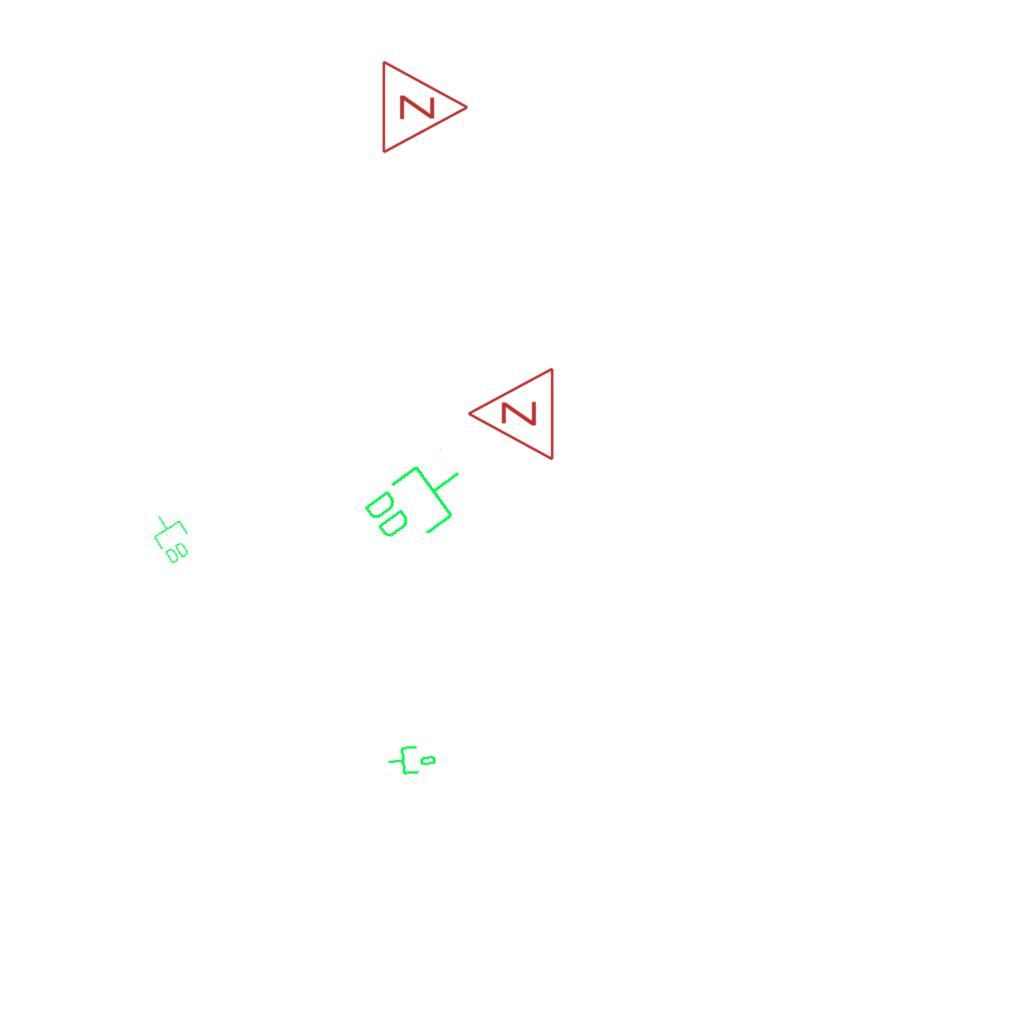Datenanschluss_einfach: (385, 739, 439, 779)
Datenanschluss_zweifach: (356, 443, 481, 560), (143, 506, 200, 568)
Zimmersignalleuchte: (461, 366, 561, 464), (375, 57, 475, 155)
